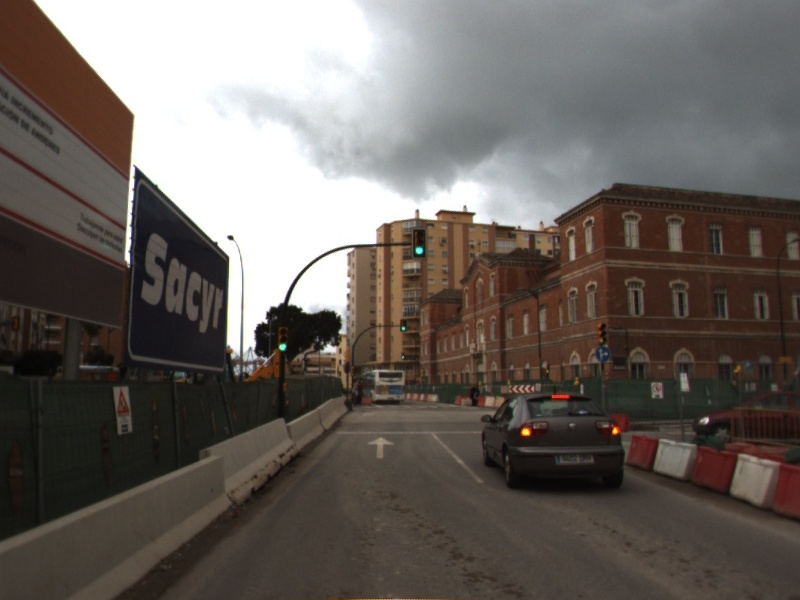STRAIGHT: (365, 435, 397, 460)
